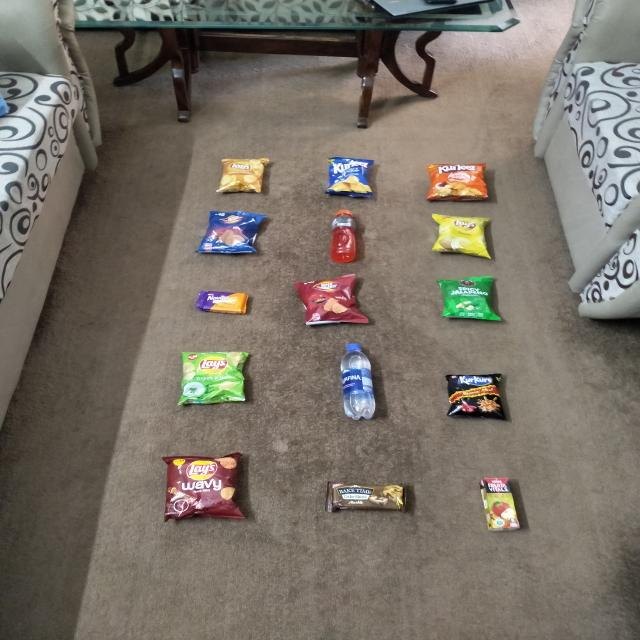Plastic: (160, 449, 251, 526), (178, 350, 254, 410), (290, 274, 372, 328), (193, 208, 272, 255), (322, 478, 414, 516), (444, 371, 512, 422), (428, 212, 496, 262), (434, 275, 506, 322), (337, 340, 379, 420), (474, 476, 526, 534), (424, 162, 493, 202), (323, 154, 379, 201), (214, 156, 274, 196), (327, 208, 362, 262), (195, 288, 254, 318)
